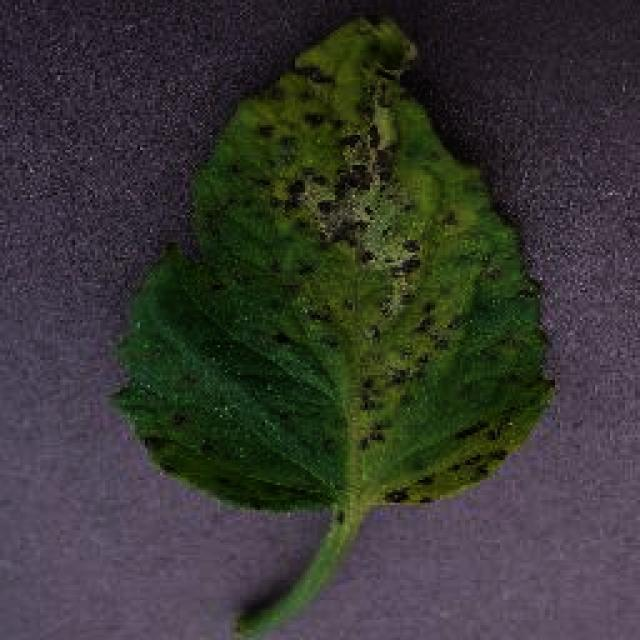Tomato Septoria spot leaf: (119, 13, 555, 517)
